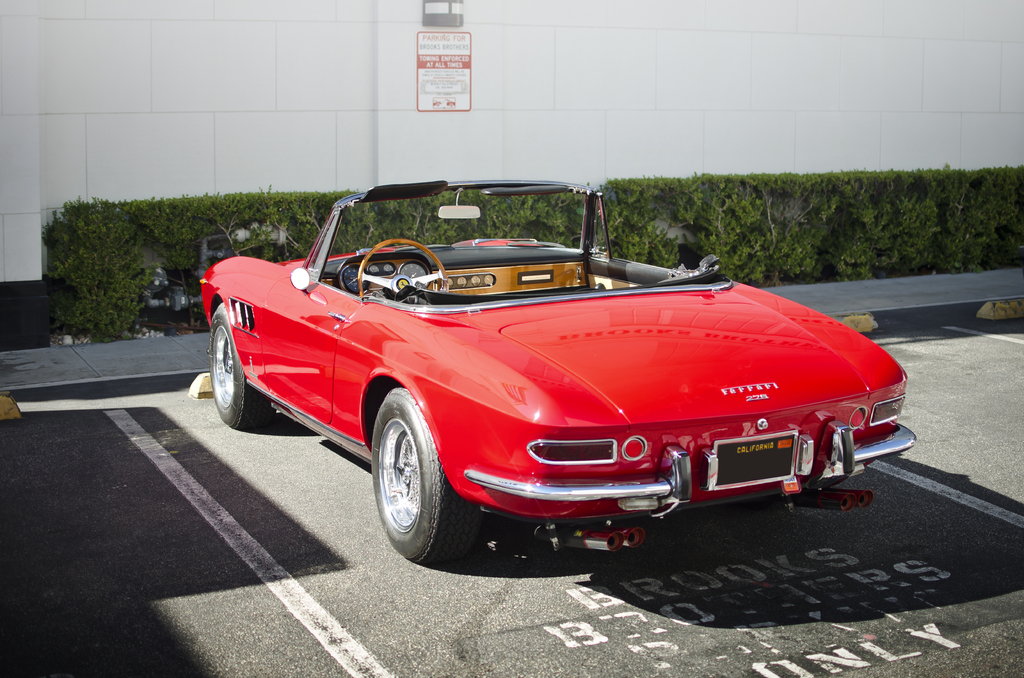Car: (213, 201, 899, 564)
